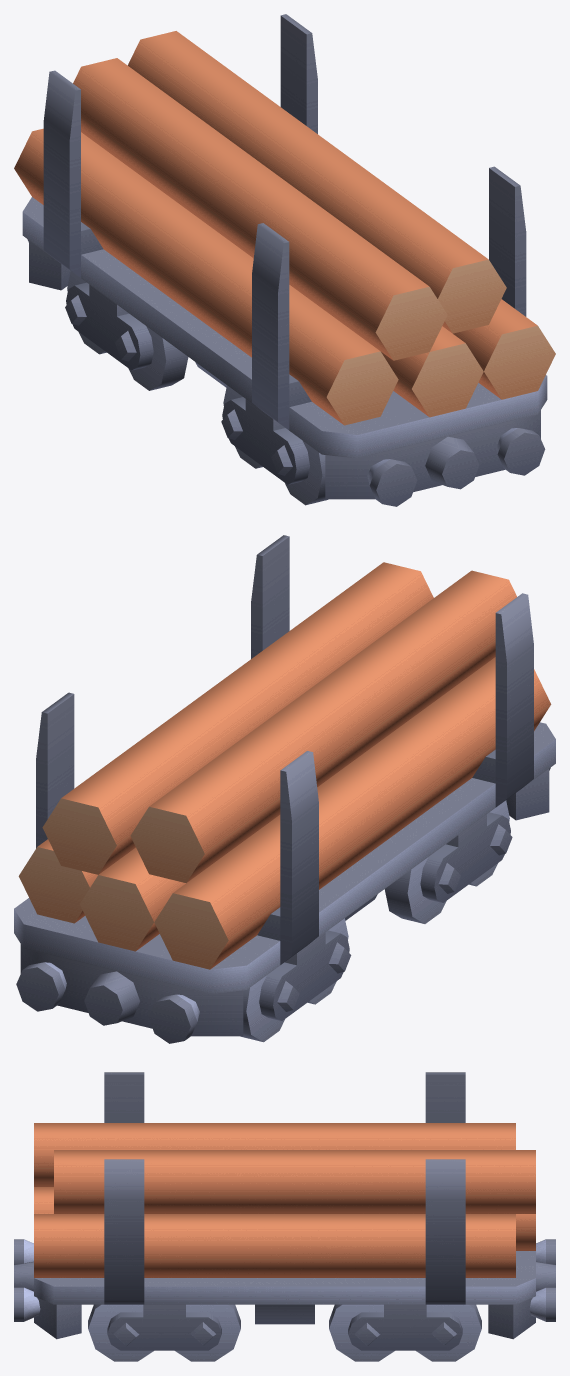
Rendered from train-carriage-lumber.glb.
3 renders of one model, top to bottom at view 1: azimuth 30°, elevation 25°; view 2: azimuth 150°, elevation 25°; view 3: azimuth 270°, elevation 25°, orthographic. The views are drawn at different scales.
Parts seen in each view (by area): view 1: cargo, train-carriage-lumber, wheels-back, wheels-front; view 2: cargo, train-carriage-lumber, wheels-front, wheels-back; view 3: cargo, train-carriage-lumber, wheels-back, wheels-front.
Boxes of the visible parts, x1,y1,x2,y2 form: cargo: [14, 31, 555, 425]; train-carriage-lumber: [22, 14, 547, 506]; wheels-back: [65, 271, 188, 390]; wheels-front: [221, 385, 328, 505]; cargo: [18, 562, 551, 969]; train-carriage-lumber: [14, 535, 555, 1043]; wheels-front: [384, 800, 512, 923]; wheels-back: [240, 918, 351, 1042]; cargo: [34, 1123, 535, 1277]; train-carriage-lumber: [14, 1072, 555, 1339]; wheels-back: [329, 1304, 481, 1361]; wheels-front: [88, 1304, 240, 1361].
Size of the model in its own units: 1.1 by 1.16 by 2.7.
Materials: 1 (1 with a texture image).
